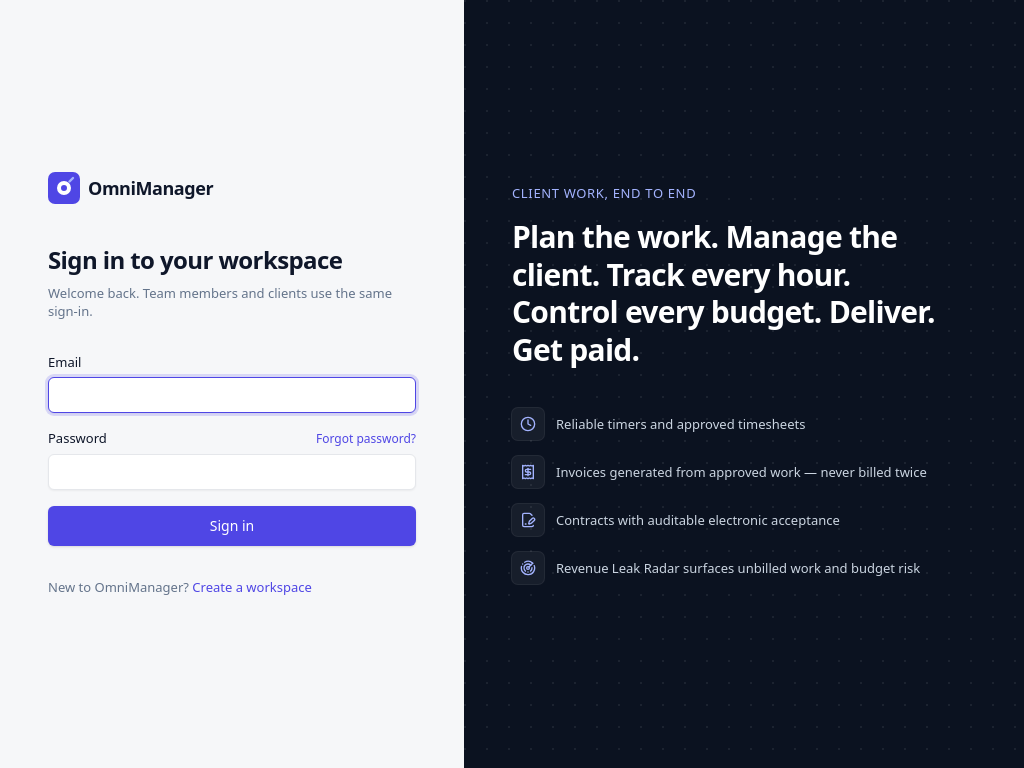
Test: LoginPage › shows the server's error for bad credentials
The image size is (1024, 768).
Step 1. Type "olivia@example.test" into the field labelled "Email" → coordinates (232, 395), box left=48, top=377, right=416, bottom=413
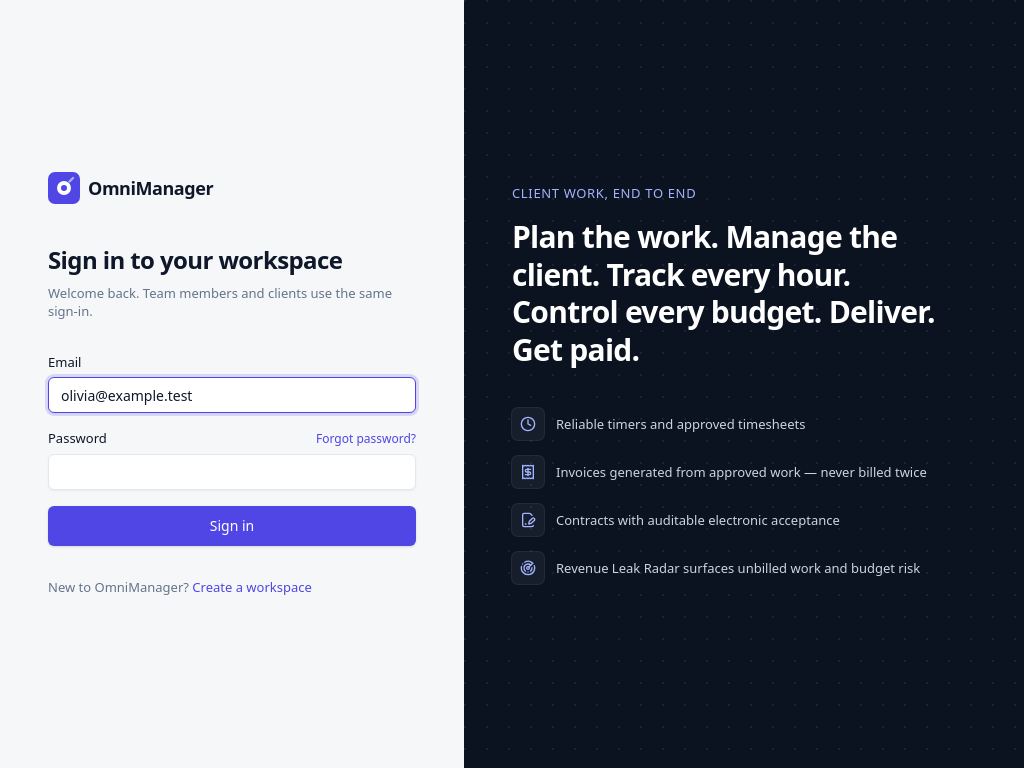
Step 2. Type "wrong-password" into the password field labelled "Password Forgot password?" → coordinates (232, 472), box left=48, top=454, right=416, bottom=490
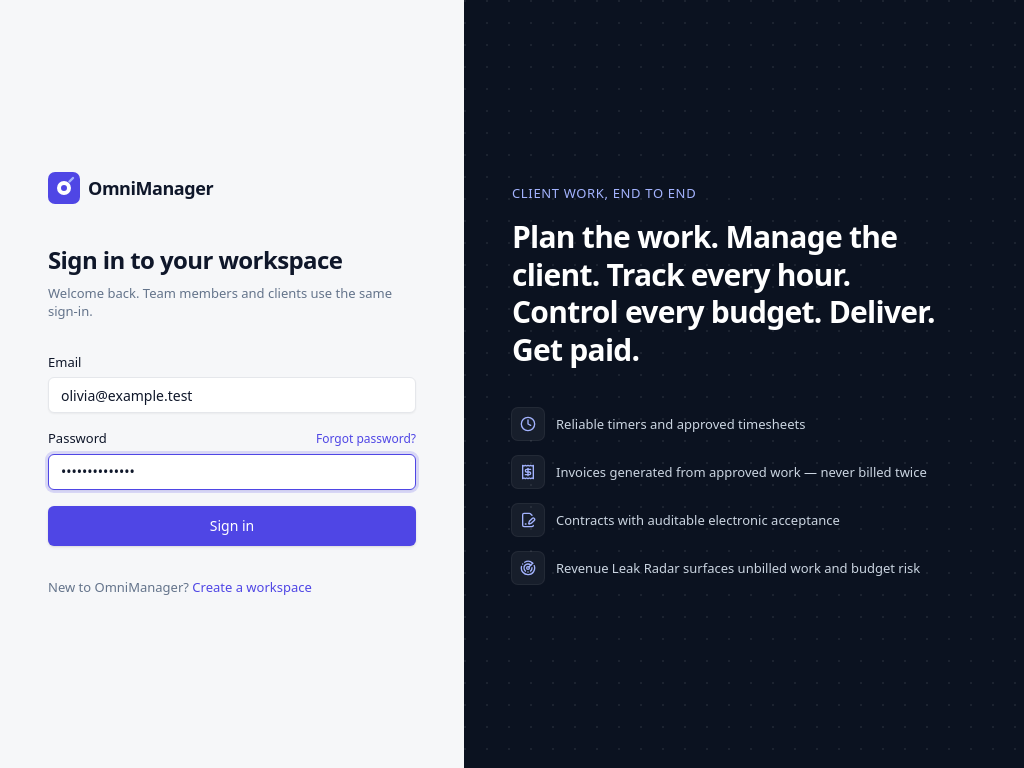
Step 3. Click the button "Sign in" → coordinates (232, 526), box left=48, top=506, right=416, bottom=546
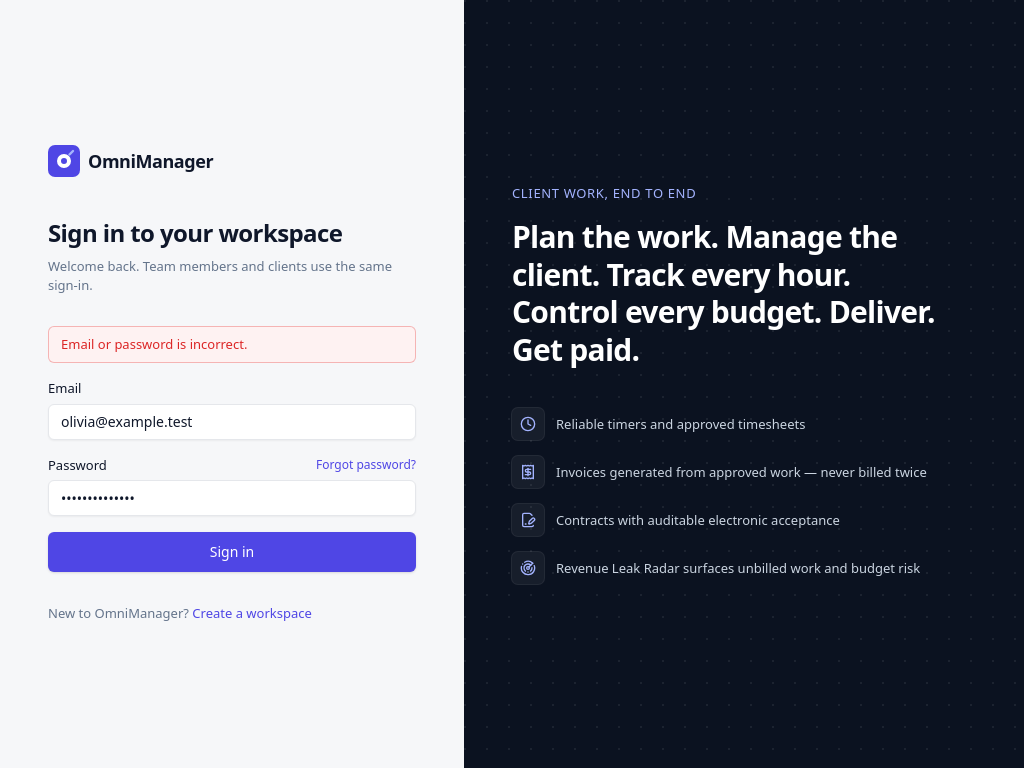
Check: the message reads "Email or password is incorrect.", box left=61, top=335, right=247, bottom=353
